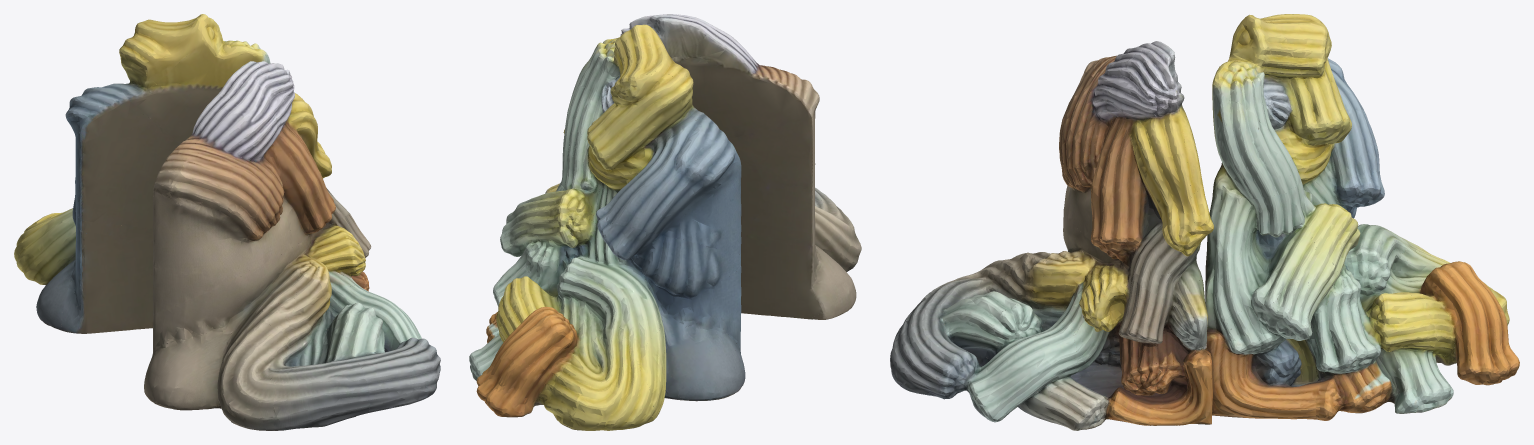
The model's file is 05_2_js_brq_bookend1-opt-v16.glb.
The picture shows the model from 3 angles, left to right: view 1: azimuth 30°, elevation 25°; view 2: azimuth 150°, elevation 25°; view 3: azimuth 270°, elevation 25°; orthographic projection. The views are drawn at different scales.
Parts seen in each view (by area): view 1: tripo_node_09d7d14c-59d6-4259-911f-496c4eb315b4; view 2: tripo_node_09d7d14c-59d6-4259-911f-496c4eb315b4; view 3: tripo_node_09d7d14c-59d6-4259-911f-496c4eb315b4.
Boxes of the visible parts, <box> form: tripo_node_09d7d14c-59d6-4259-911f-496c4eb315b4: <box>14,14,440,430</box>; tripo_node_09d7d14c-59d6-4259-911f-496c4eb315b4: <box>469,14,861,430</box>; tripo_node_09d7d14c-59d6-4259-911f-496c4eb315b4: <box>890,14,1519,430</box>.
Size of the model in its own units: 0.1416 by 0.16 by 0.2646.
Materials: 1 (1 with a texture image).
